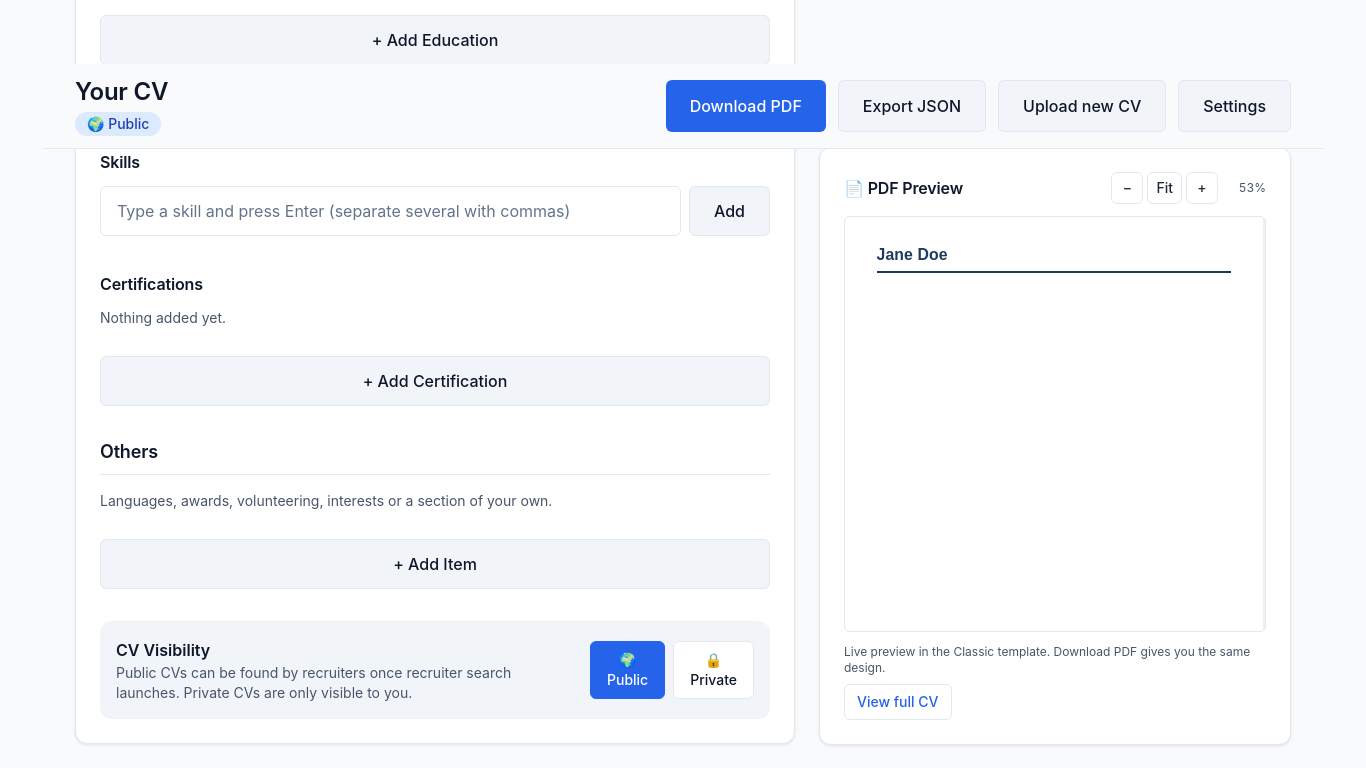
Test: Download PDF, Export JSON and visibility › saves the visibility setting and puts it back if saving fails
The image size is (1366, 768).
(page scrolled)
Click the radio button labelled "🔒 Private" at (714, 670), box [673, 641, 754, 699]
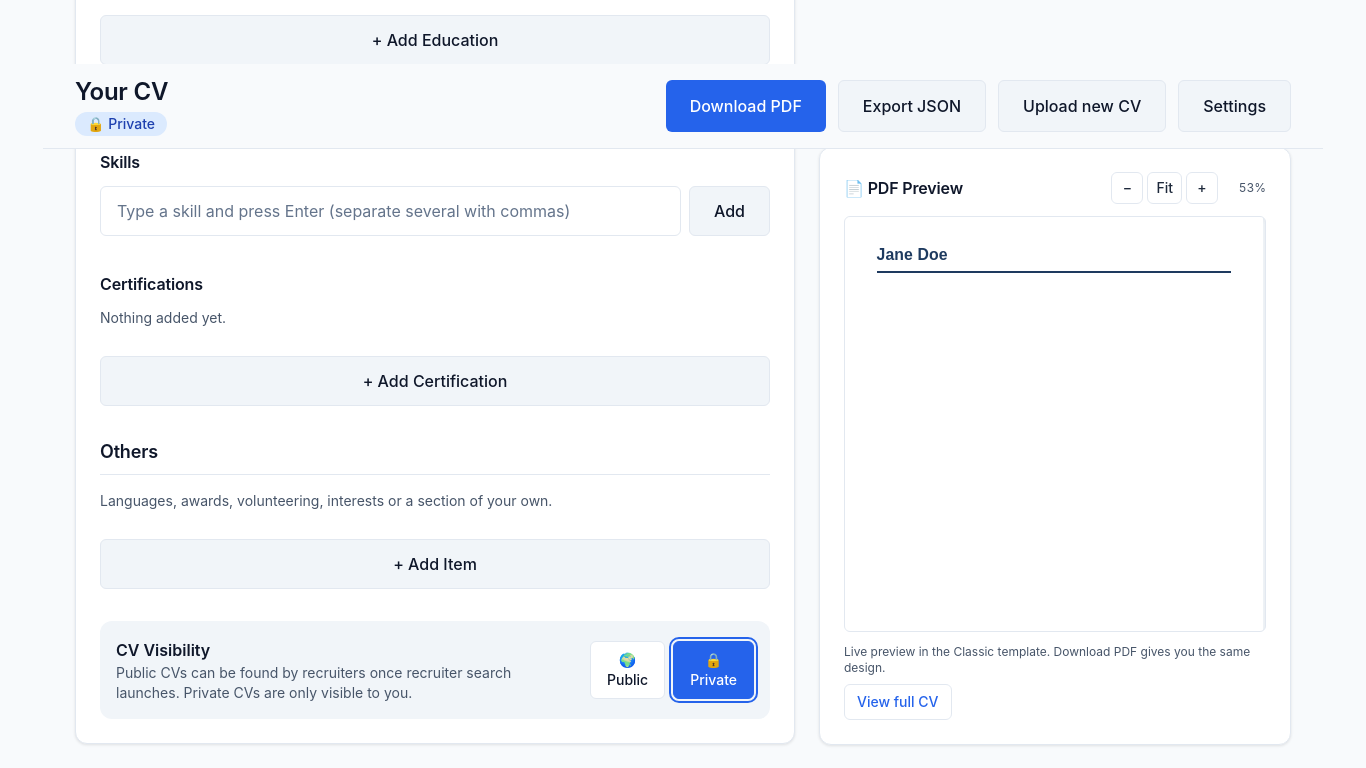
Check: the text "🔒 Private" is shown, box [75, 112, 167, 136]
Click the radio button labelled "🌍 Public" at (628, 670), box [590, 641, 665, 699]
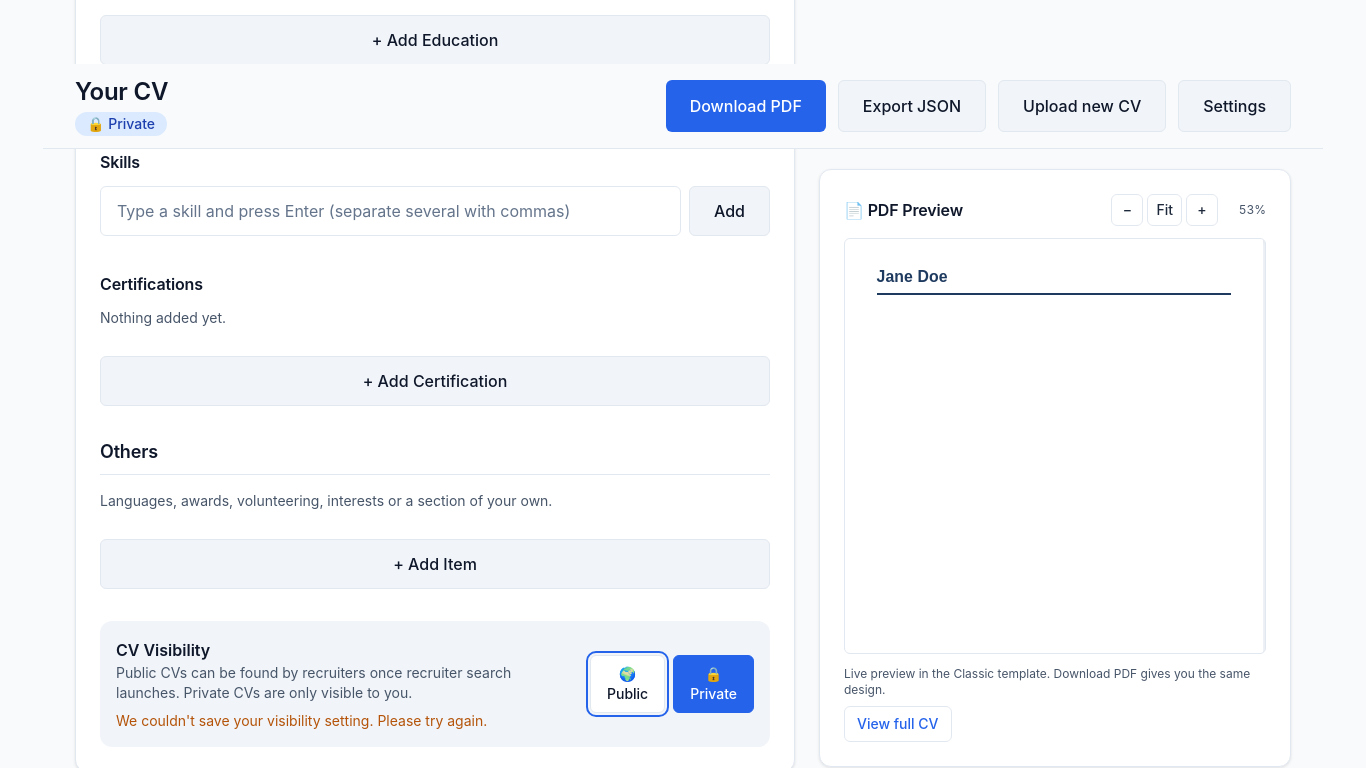
Check: the text "We couldn't save your visibility setting. Please try again." is shown, box [116, 712, 487, 729]
